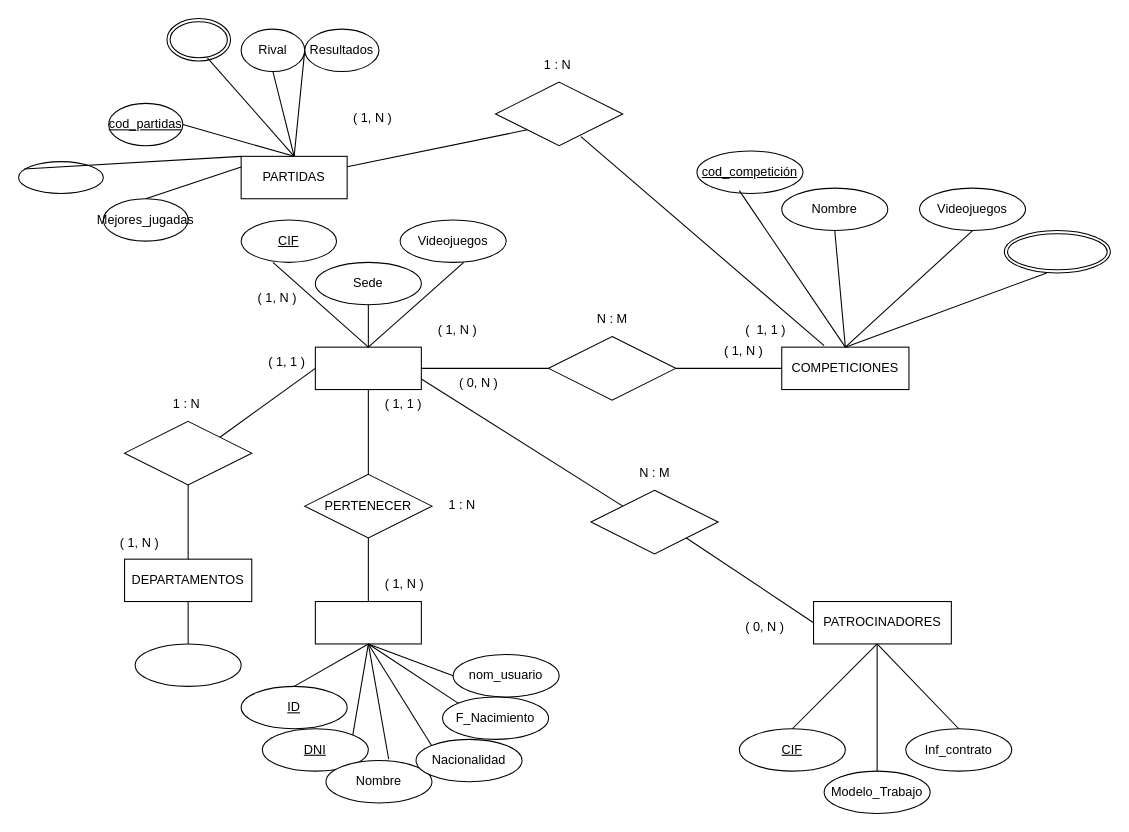
The diagram is 1129 pixels wide and 832 high, and some of its shapes have lost their labels. The shapes that lost their labels are listed below. From the top down, each one's centre as x and y in pixels, then its label:
At (x=198, y=39): "Fecha".
At (x=558, y=113): "TENER".
At (x=60, y=177): "MVP".
At (x=1056, y=251): "Fechas".
At (x=367, y=368): "CLUB".
At (x=611, y=367): "COMPETIR".
At (x=187, y=452): "TIENE".
At (x=654, y=521): "PATROCINAR".
At (x=367, y=622): "JUGADORES".
At (x=187, y=664): "cod_departamento".
